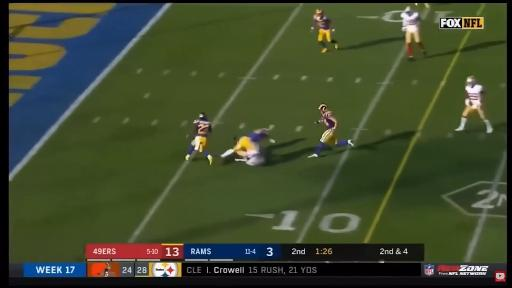Helmet: (466, 76, 477, 86), (318, 104, 329, 113), (315, 10, 324, 18), (198, 113, 208, 120), (406, 8, 413, 14)
Jersey: (320, 111, 337, 144), (466, 84, 483, 108), (401, 12, 419, 32), (194, 120, 211, 137), (322, 111, 337, 129), (313, 15, 330, 30), (247, 130, 268, 142)
Player: (308, 104, 353, 157), (456, 76, 493, 133), (221, 129, 275, 164), (186, 113, 213, 164), (401, 7, 426, 60), (311, 10, 338, 52), (424, 3, 429, 7)
